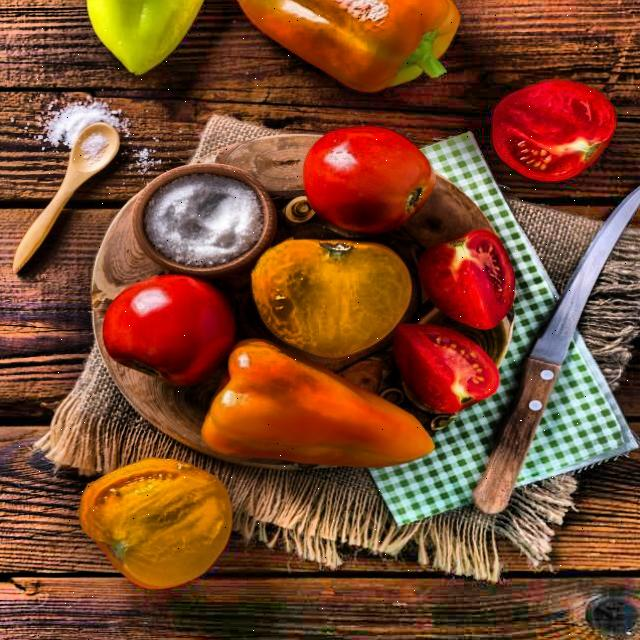knife: (468, 184, 640, 525)
